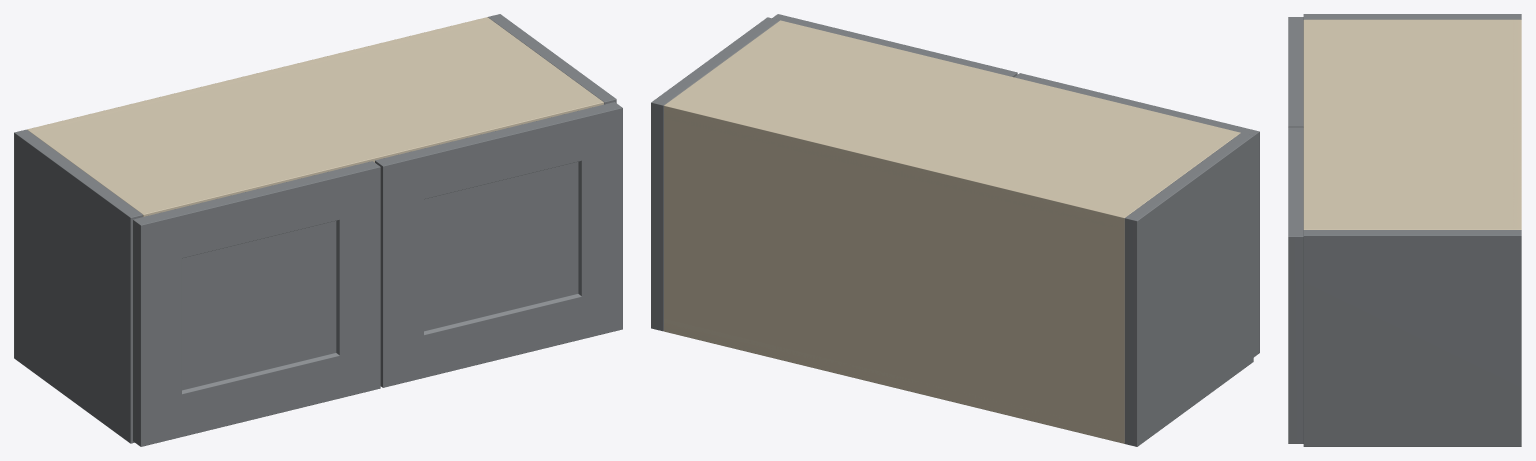
Rendered from oppein-ply-gss-w2712.glb.
3 views of the same model, side by side, from view 1: azimuth 30°, elevation 25°; view 2: azimuth 150°, elevation 25°; view 3: azimuth 270°, elevation 25° (orthographic). The views are drawn at different scales.
Parts seen in each view (by area): view 1: Door, Door.001, Cabinet top, Cabinet side, Cabinet back, Cabinet side.001; view 2: Cabinet back, Cabinet top, Cabinet side, Cabinet side.001, Door, Cabinet bottom, Door.001; view 3: Cabinet side.001, Cabinet top, Door.001, Cabinet back, Door, Cabinet side.
Part boxes in pixels (<box>): Door: <box>133,161,380,446</box>; Door.001: <box>375,102,622,387</box>; Cabinet top: <box>31,17,603,216</box>; Cabinet side: <box>14,129,142,443</box>; Cabinet back: <box>27,17,491,132</box>; Cabinet side.001: <box>488,14,616,104</box>; Cabinet back: <box>664,102,1128,443</box>; Cabinet top: <box>664,20,1240,230</box>; Cabinet side: <box>1124,133,1253,446</box>; Cabinet side.001: <box>651,17,779,331</box>; Door: <box>1014,73,1259,357</box>; Cabinet bottom: <box>664,319,1124,439</box>; Door.001: <box>772,14,1017,77</box>; Cabinet side.001: <box>1303,230,1521,446</box>; Cabinet top: <box>1303,19,1521,229</box>; Door.001: <box>1288,127,1303,443</box>; Cabinet back: <box>1513,19,1521,229</box>; Door: <box>1288,17,1303,127</box>; Cabinet side: <box>1303,14,1521,19</box>.
Size of the model in its own units: 0.6858 by 0.3048 by 0.3048.
